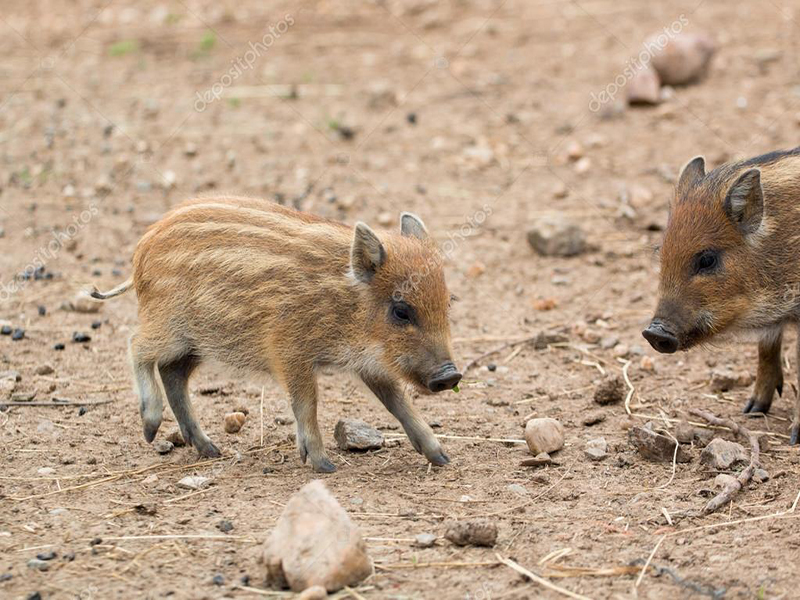cinghiale: (113, 184, 468, 471), (650, 143, 796, 427)
